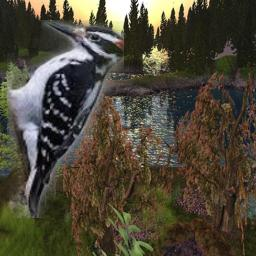Woodpecker: (7, 20, 124, 218)
